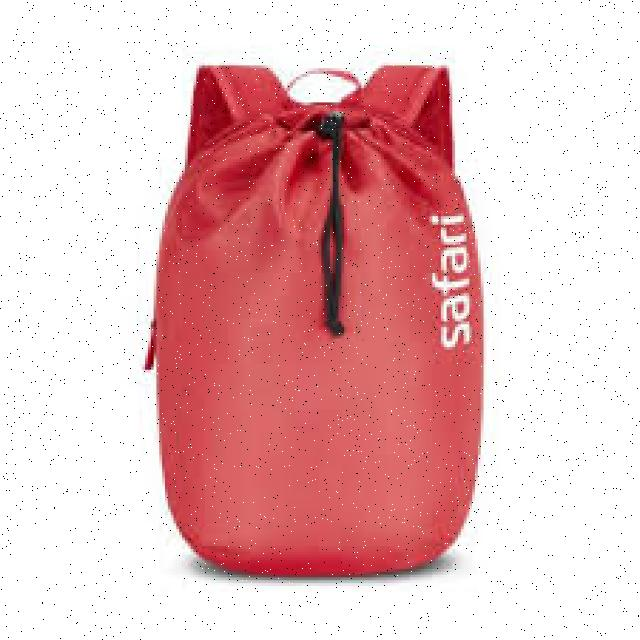backpack: (142, 60, 484, 577)
